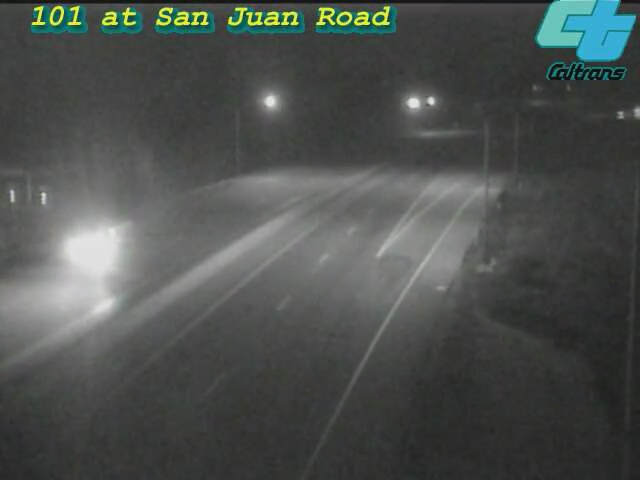vehicle: (63, 207, 143, 287)
